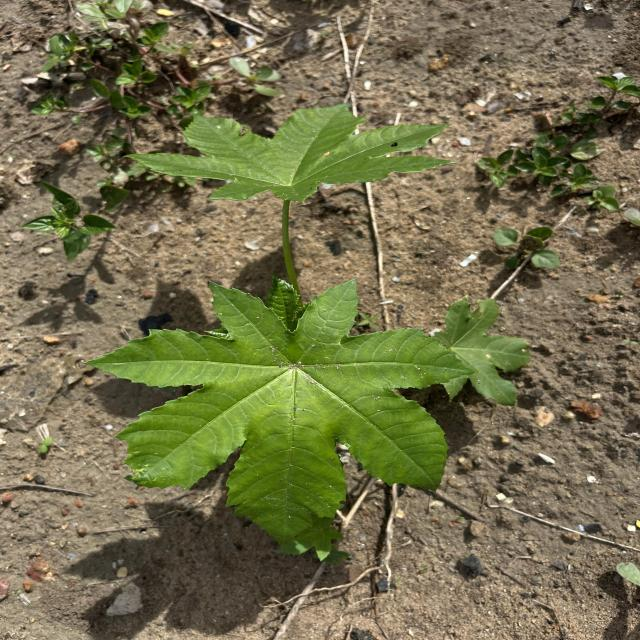Ricinus communis linn: (80, 274, 478, 554)
